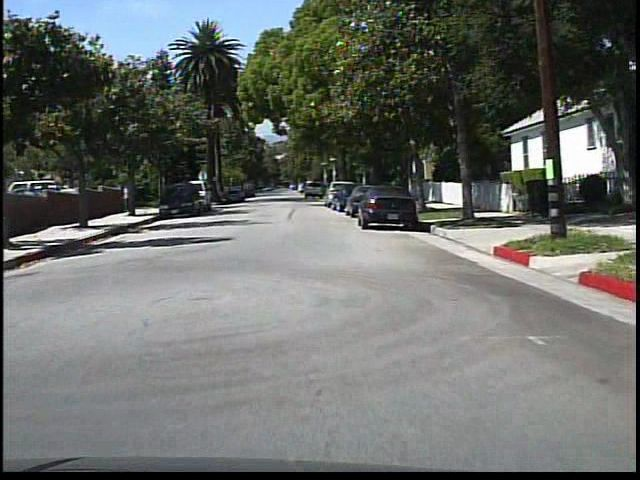person: (120, 180, 136, 216)
